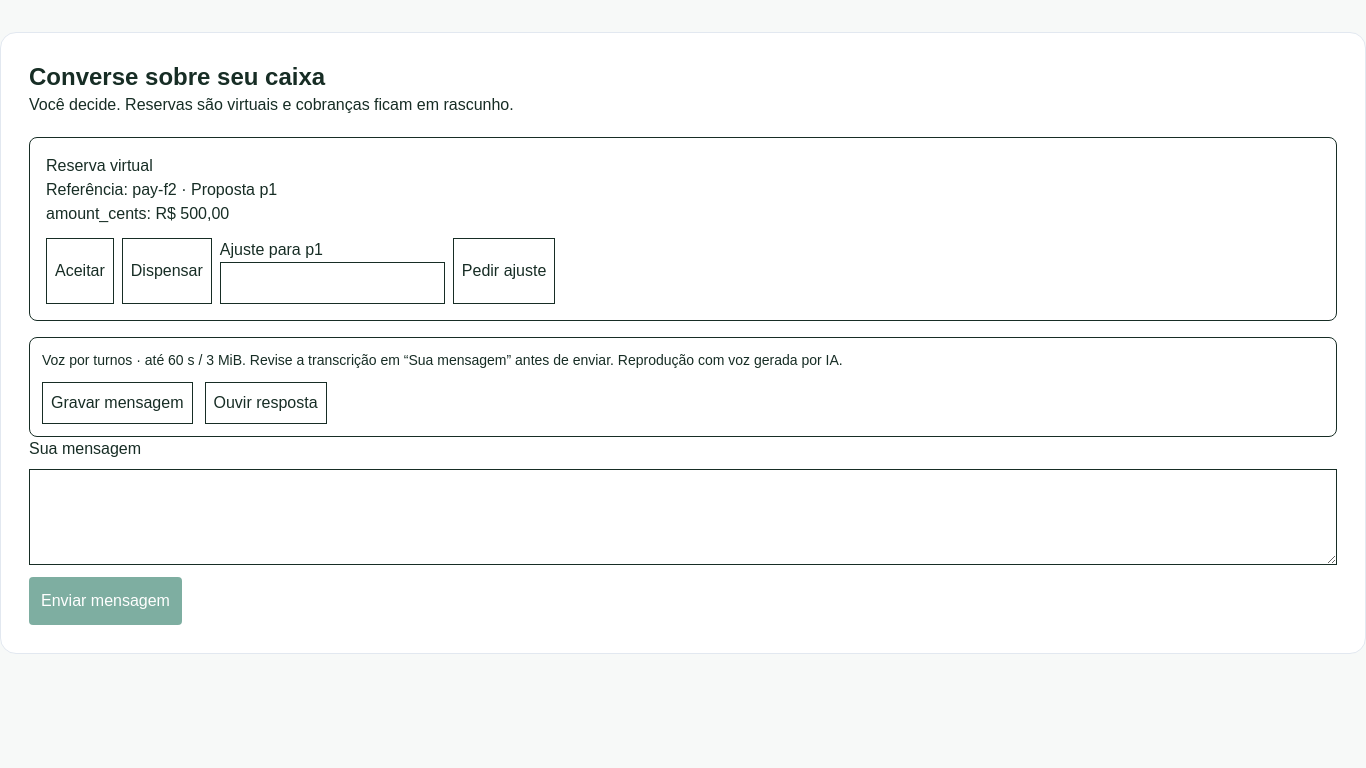
Scenario: T18 AGENT-02 esclarecimento mantém resposta sem afirmar execução
Type "Adie o recebível" into the text box labelled "Sua mensagem" at (683,517), box [29,469,1337,565]
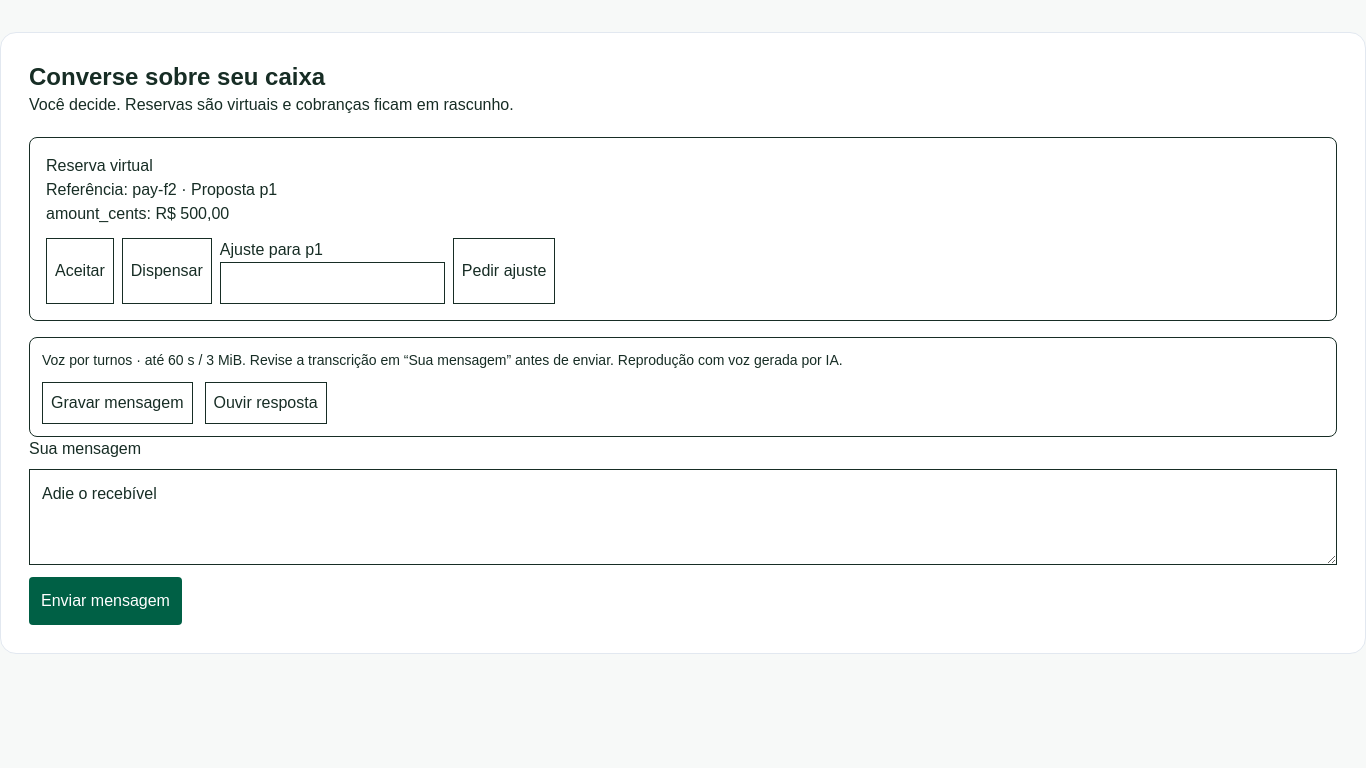
Click the button "Enviar mensagem" at (106,601), box [29,577,182,625]
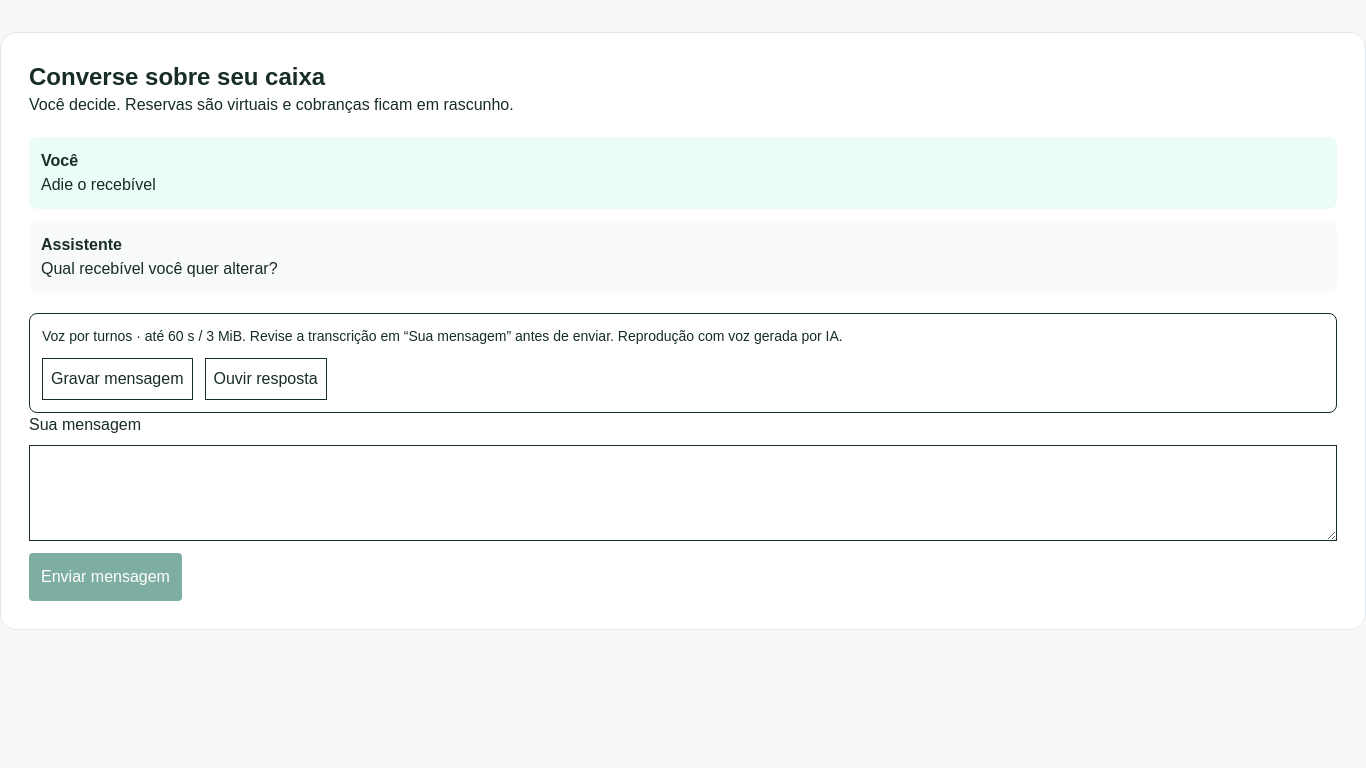
Now the text "Qual recebível você quer alterar?" is shown, box [41,260,278,277]
